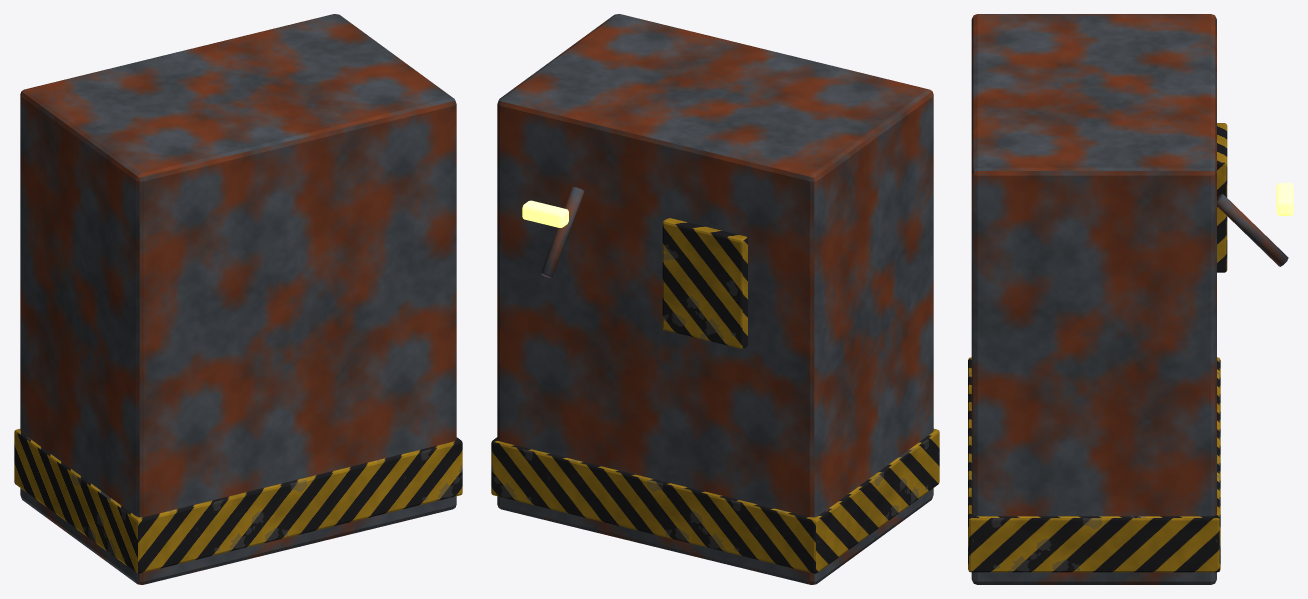
Rendered from generator_panel.glb.
The picture shows the model from 3 angles, left to right: view 1: azimuth 30°, elevation 25°; view 2: azimuth 150°, elevation 25°; view 3: azimuth 270°, elevation 25°; orthographic projection.
Visible parts, largest first — view 1: GenBase, GenStripe; view 2: GenBase, GenStripe, FuseRecess, LeverArm, LeverGrip; view 3: GenBase, GenStripe, FuseRecess, LeverArm, LeverGrip.
Part boxes in pixels (left/top/right/bottom): GenBase: left=20, top=14, right=456, bottom=584; GenStripe: left=14, top=429, right=462, bottom=573; GenBase: left=497, top=14, right=933, bottom=584; GenStripe: left=491, top=429, right=939, bottom=573; FuseRecess: left=662, top=217, right=747, bottom=348; LeverArm: left=540, top=187, right=584, bottom=277; LeverGrip: left=522, top=200, right=568, bottom=227; GenBase: left=971, top=14, right=1216, bottom=584; GenStripe: left=968, top=357, right=1220, bottom=572; FuseRecess: left=1217, top=123, right=1227, bottom=272; LeverArm: left=1217, top=193, right=1288, bottom=266; LeverGrip: left=1276, top=183, right=1293, bottom=215.
Bounding box in the file's own units: 1.12 × 1.35 × 0.955.
Materials: 3 (2 with a texture image).
